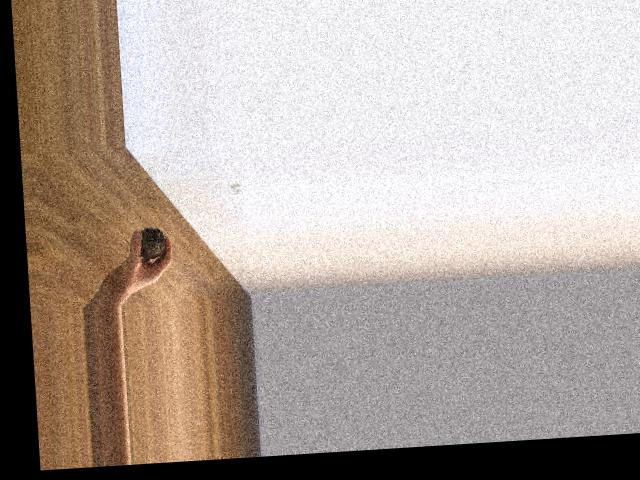beet: (124, 226, 167, 260)
